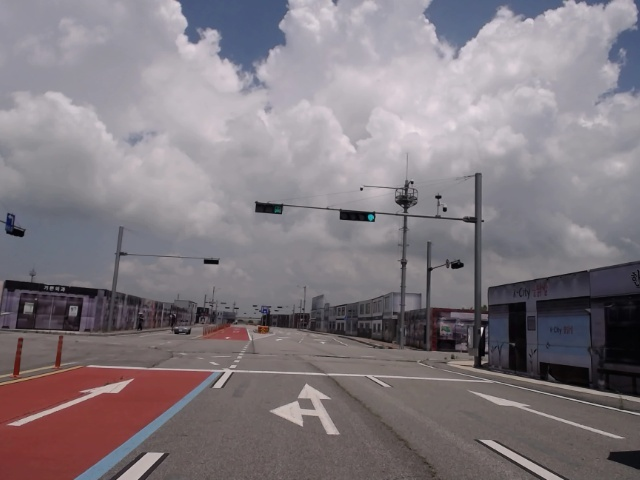straight_green_4: (338, 209, 377, 222)
